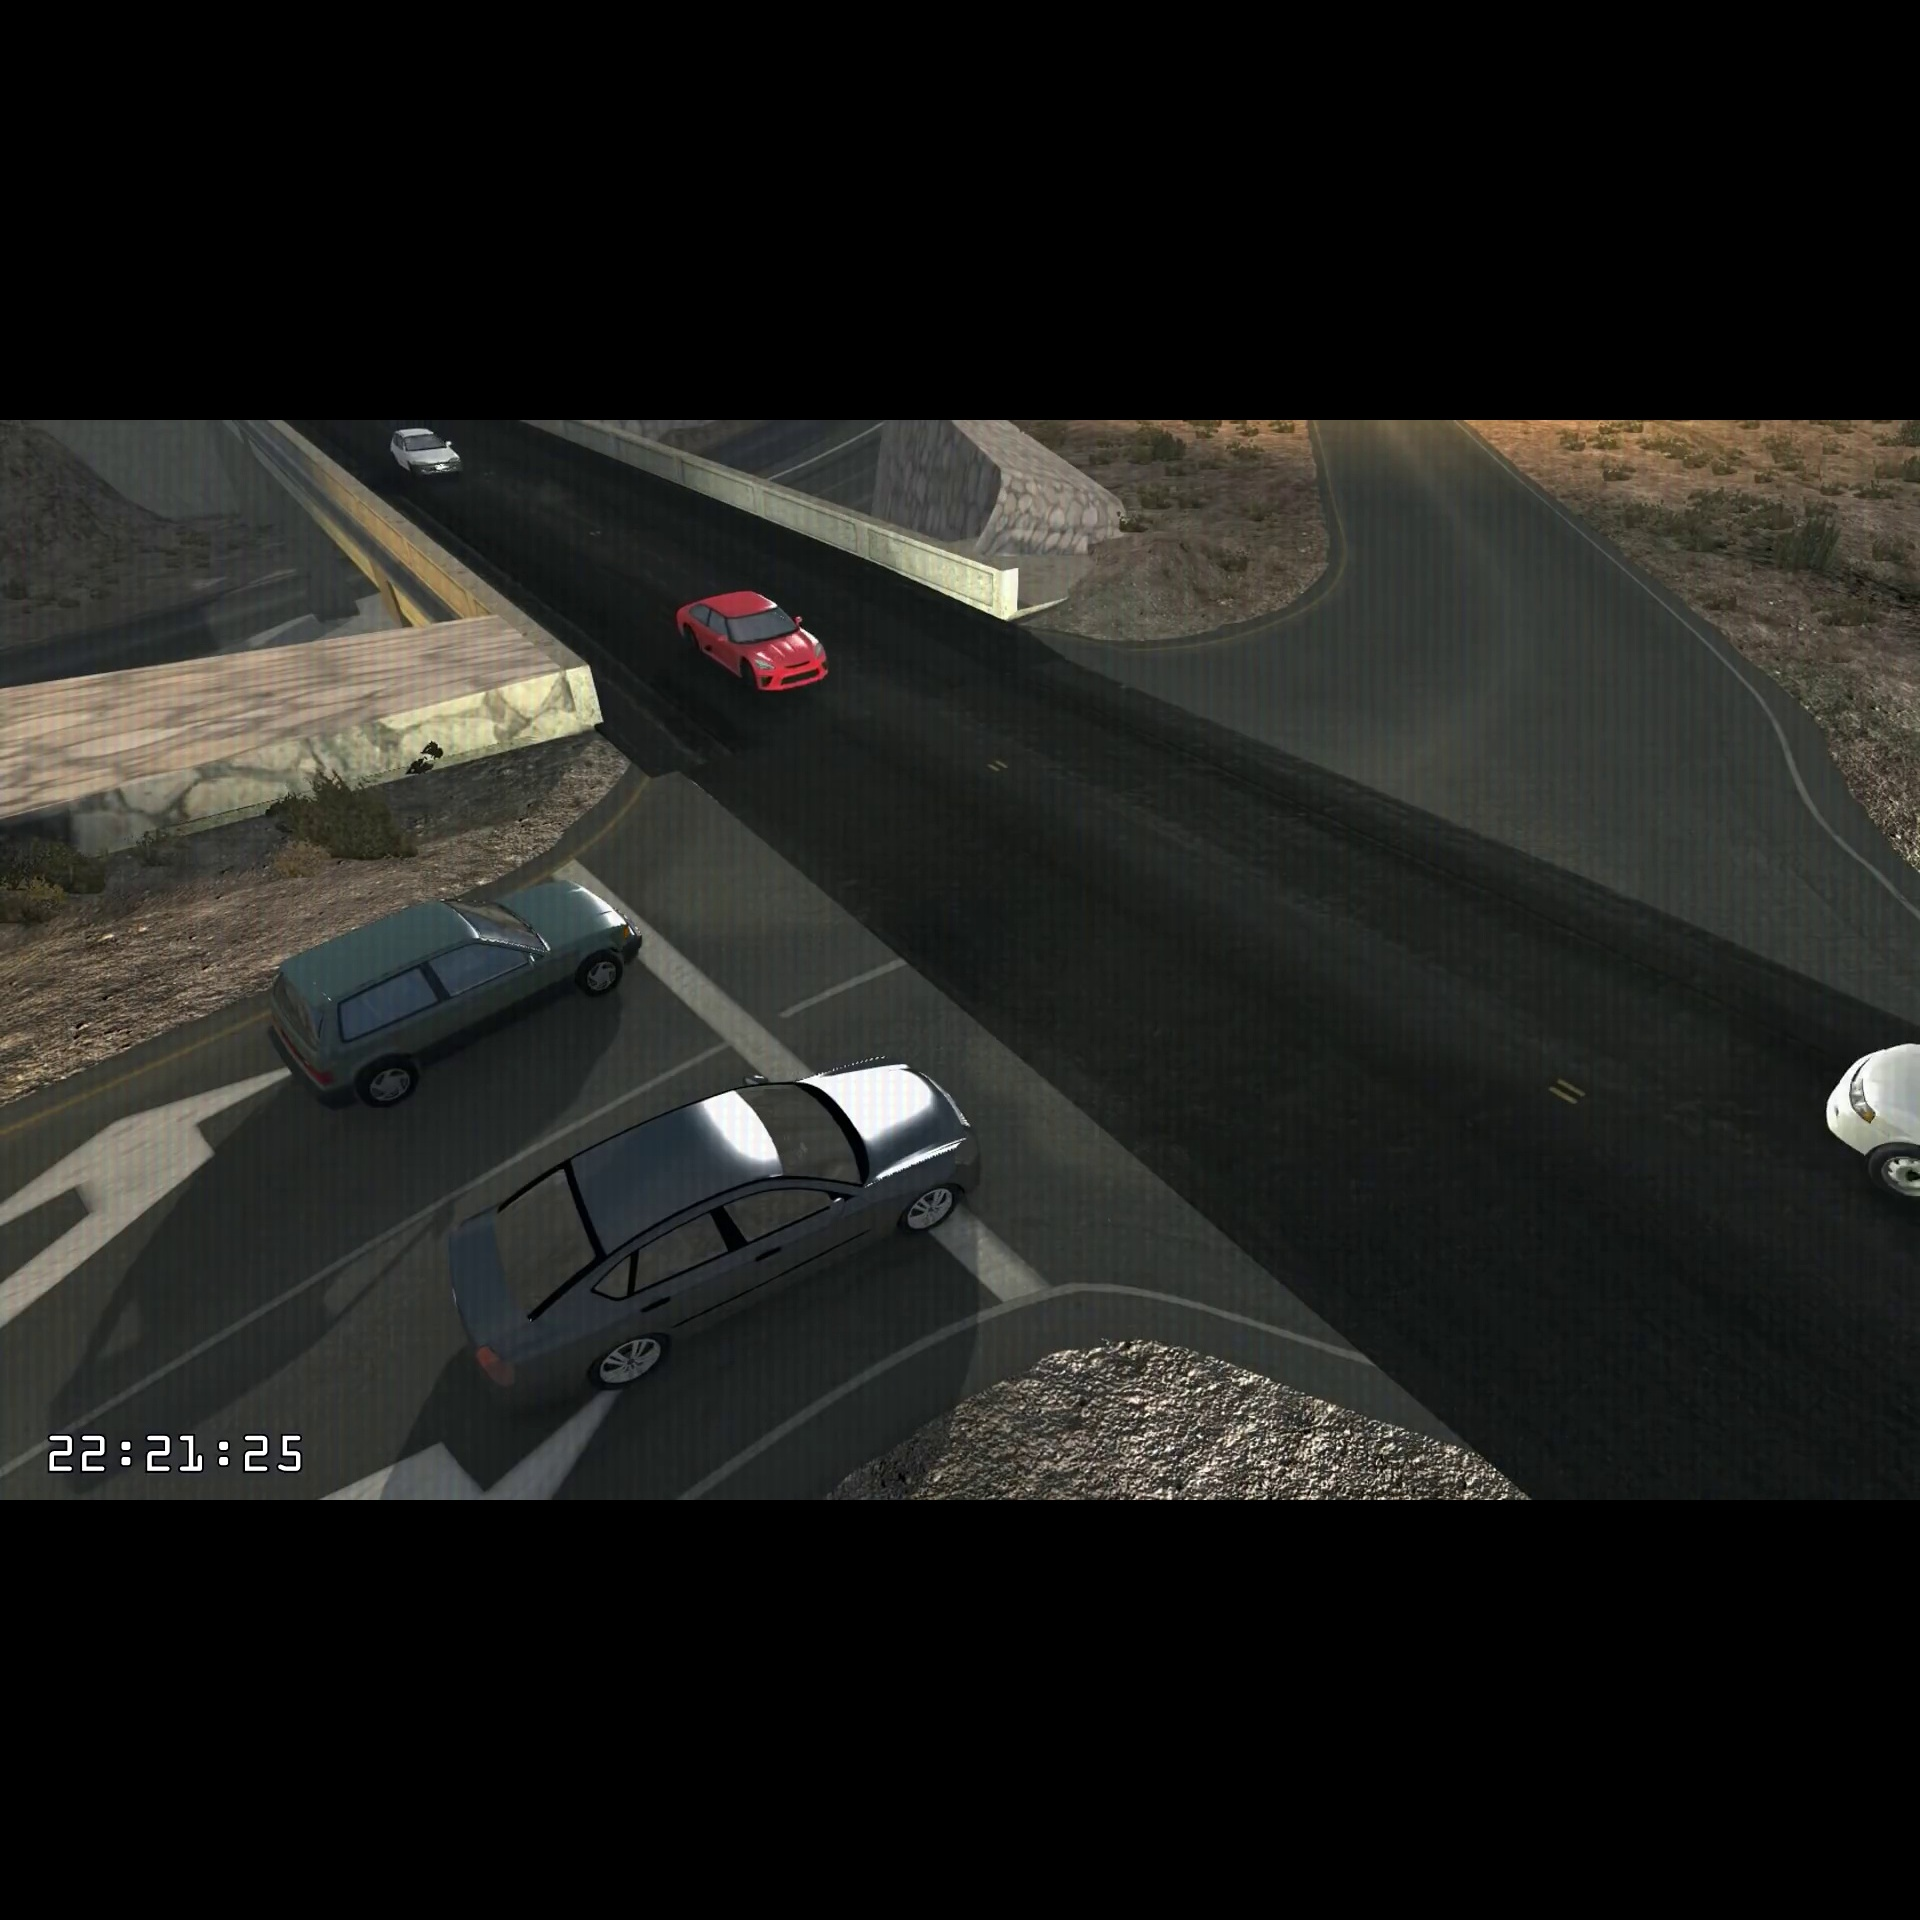vehicle: (431, 1048, 993, 1414), (253, 858, 652, 1116), (675, 584, 833, 702), (382, 422, 466, 485)
